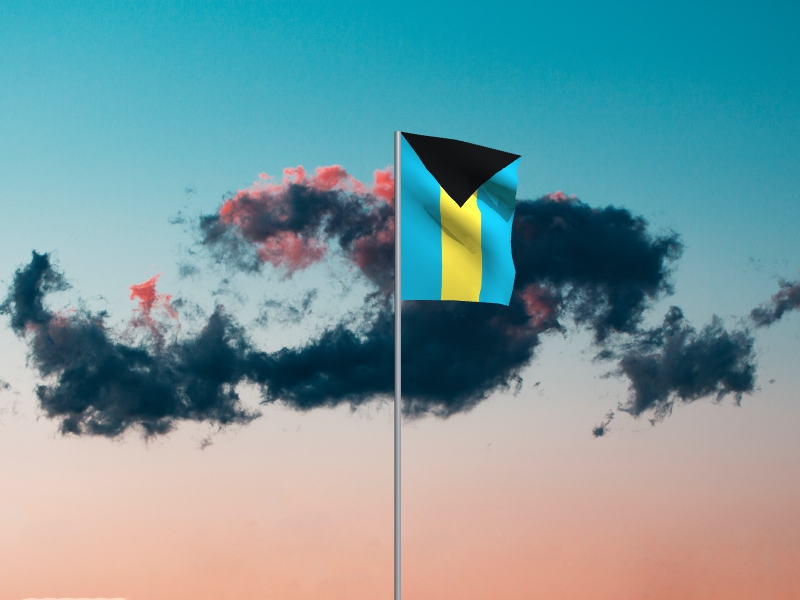bs: (402, 132, 523, 308)
